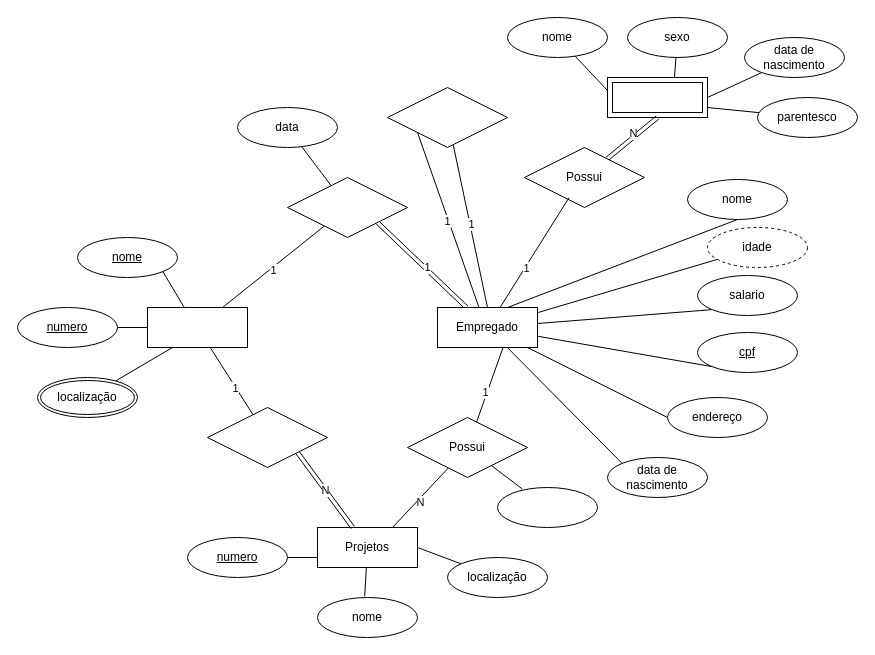
This 875x655 diagram has some shape labels left out. Here are the shapes that lost their labels. From the top down, the centre of each, then its label:
At point 447,117: "Supervisiona".
At point 657,97: "Dependente".
At point 347,207: "Gerencia".
At point 197,327: "Departamentos".
At point 267,437: "Controla".
At point 547,507: "horas".
